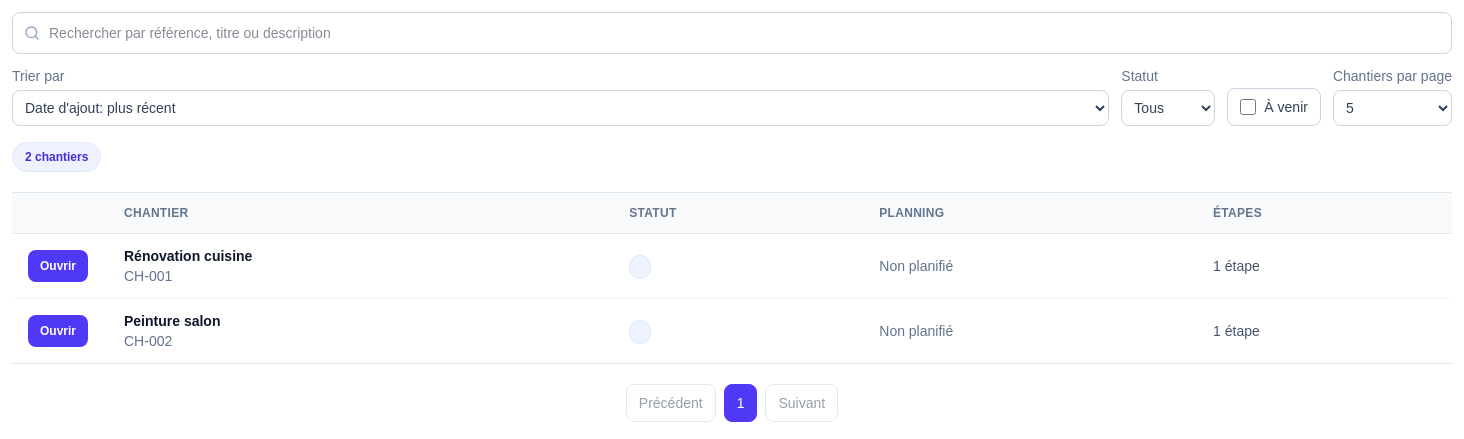
Test case: WorkOrdersList › filters work orders by search text and status
Type "cuisine" into the search field with placeholder "Rechercher par référence, titre ou description". click: [732, 33]
box: [12, 12, 1452, 54]
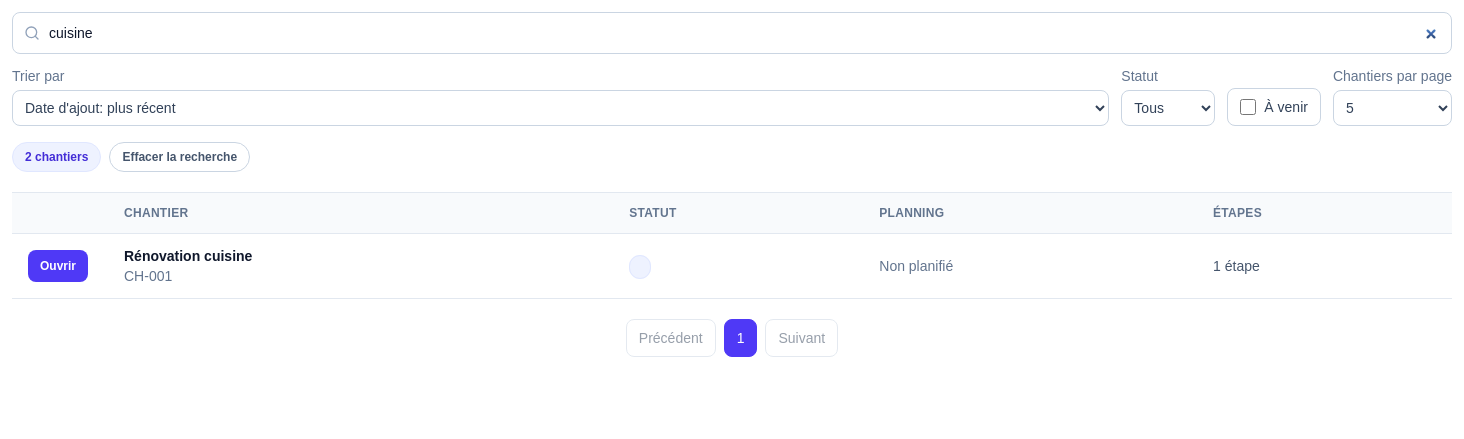
Expected: the text "Rénovation cuisine" is shown 2 times
Expected: the text "Peinture salon" is gone
Select "" in the dropdown labelled "Statut". click: [1168, 108]
box: [1121, 90, 1215, 126]
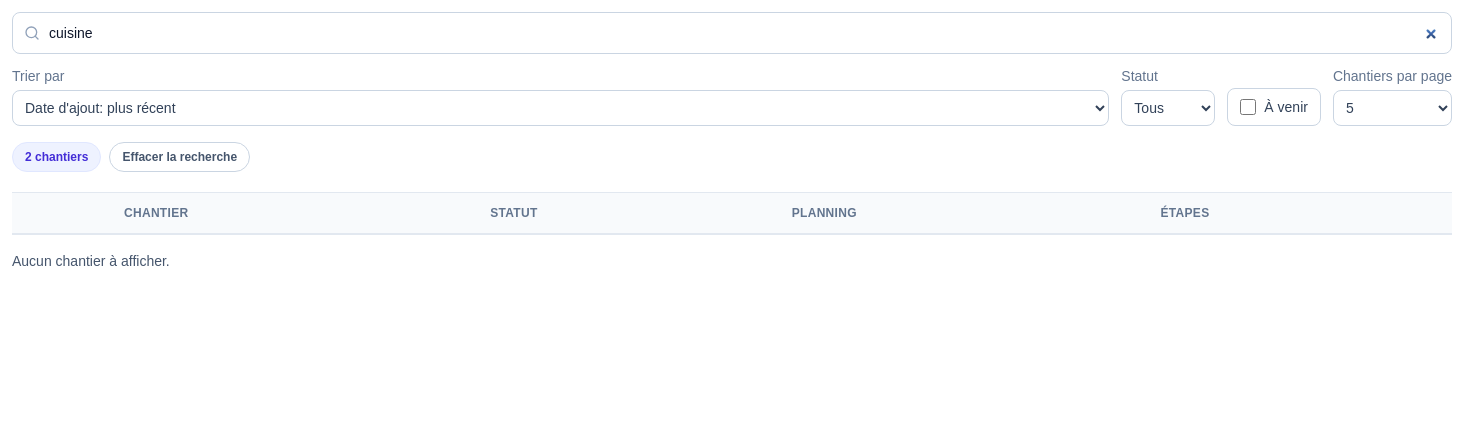
Expected: the text "Rénovation cuisine" is gone
Expected: the text "Aucun chantier à afficher." is shown, [12, 253, 170, 269]
